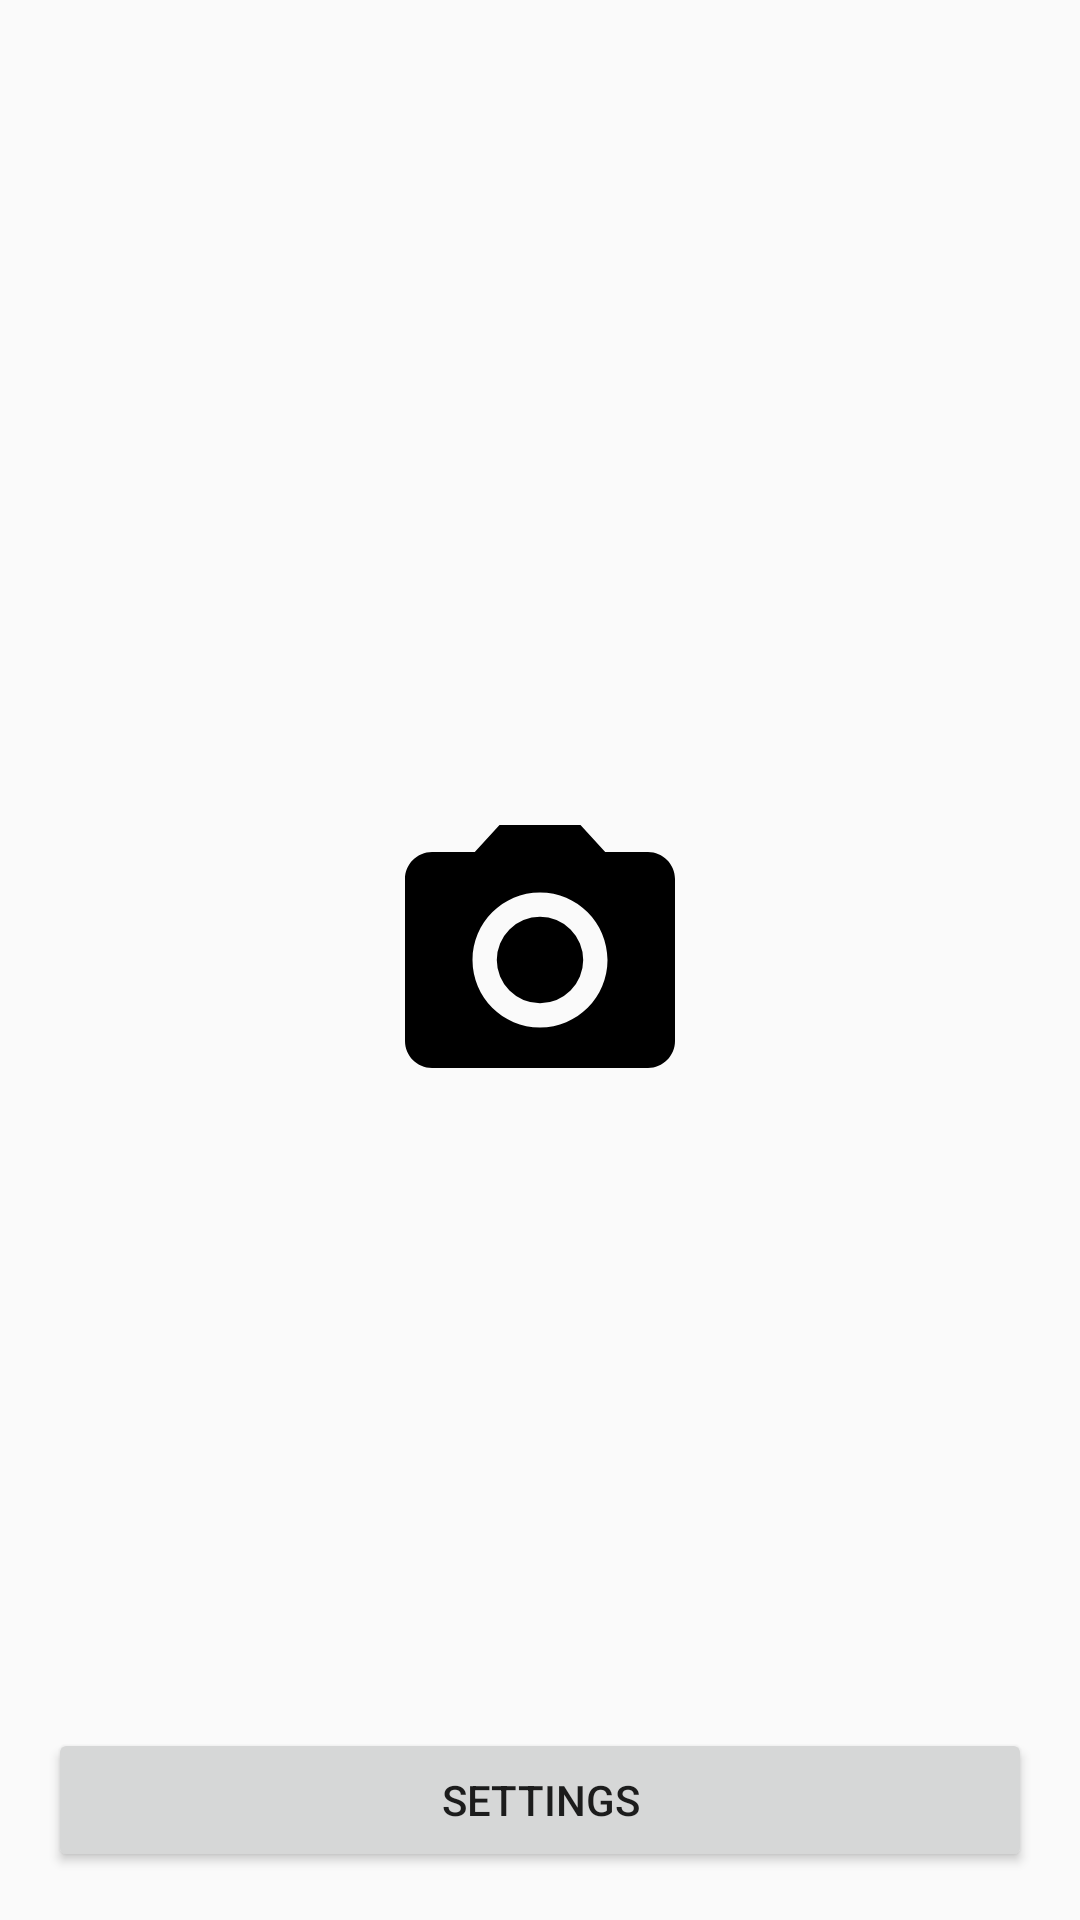

Where to tap for icons on this 1080×1920 app screen, as point (x, y):
camera: point (540, 946)
